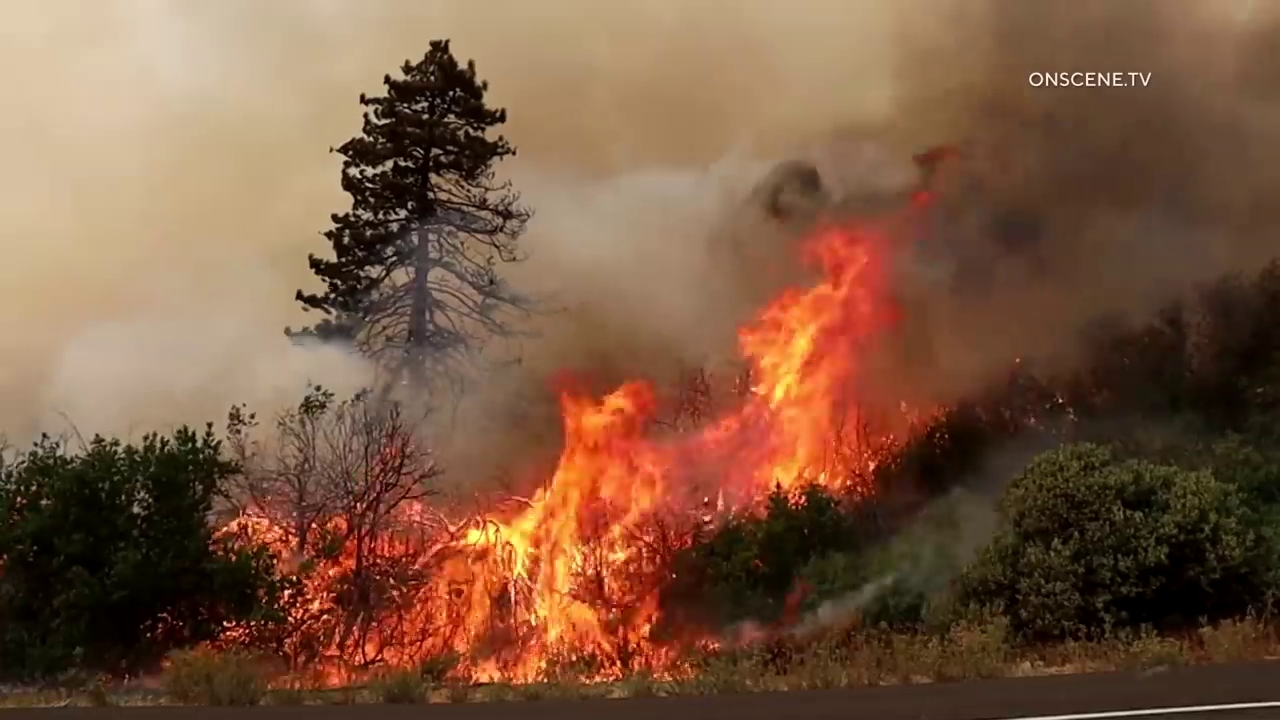forest_fire: (217, 221, 930, 685)
